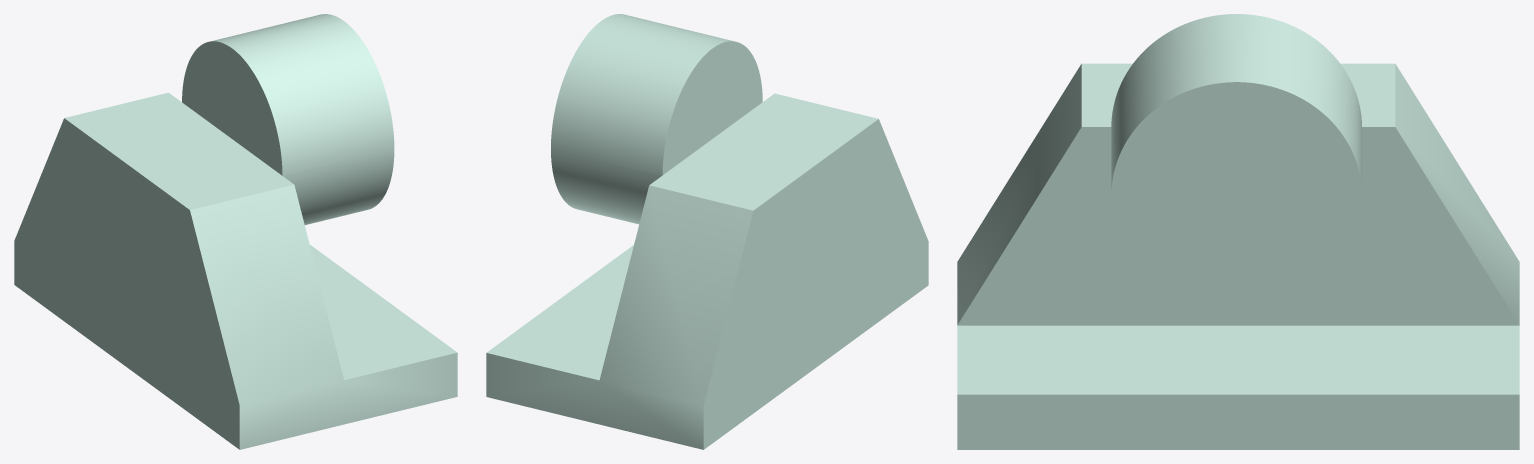
The picture shows the model from 3 angles, left to right: view 1: azimuth 30°, elevation 25°; view 2: azimuth 150°, elevation 25°; view 3: azimuth 270°, elevation 25°; orthographic projection. The views are drawn at different scales.
Visible parts, largest first — view 1: Renderer Node; view 2: Renderer Node; view 3: Renderer Node.
Part boxes in pixels (<box>): Renderer Node: <box>14,14,457,449</box>; Renderer Node: <box>486,14,928,449</box>; Renderer Node: <box>957,14,1519,449</box>.
Size of the model in its own units: 0.6843 by 0.8827 by 1.23.
